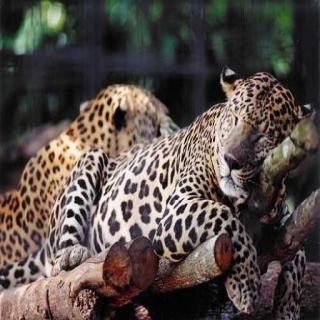Leopard: (113, 108, 320, 318)
